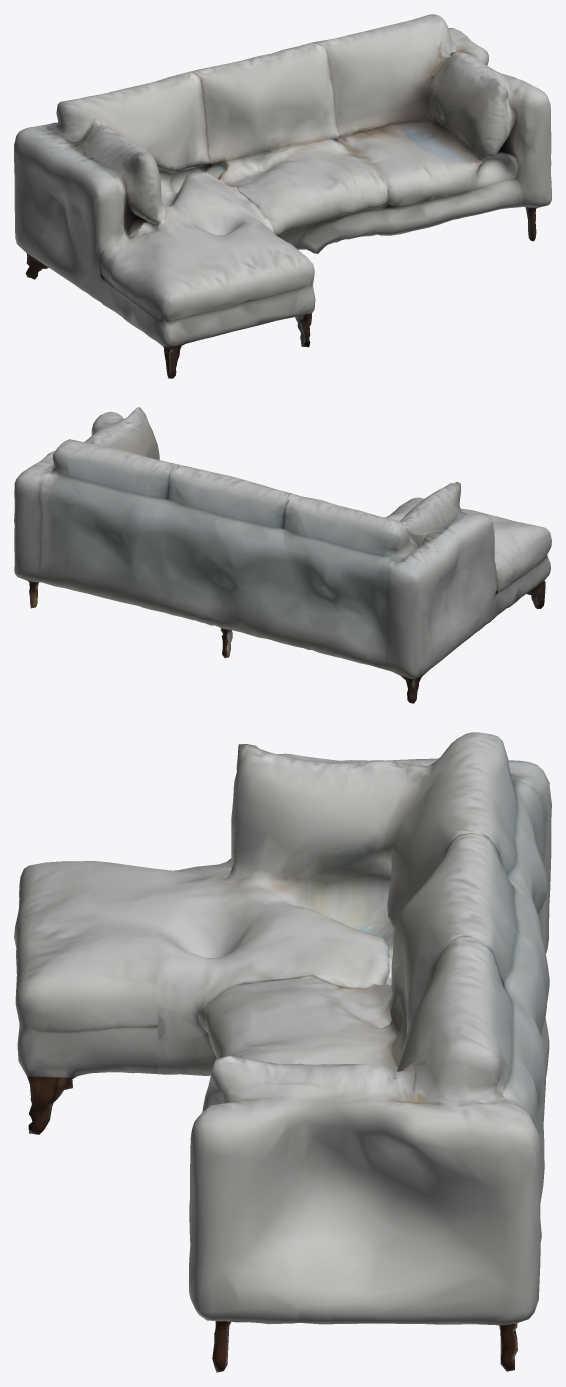
The model's file is Aaron_2_Piece_Uphol_0722183740.obj.
3 renders of one model, top to bottom at view 1: azimuth 30°, elevation 25°; view 2: azimuth 150°, elevation 25°; view 3: azimuth 270°, elevation 25°, orthographic. The views are drawn at different scales.
Visible parts, largest first — view 1: Mesh_0; view 2: Mesh_0; view 3: Mesh_0.
Boxes of the visible parts, <box> form: Mesh_0: <box>14,14,551,378</box>; Mesh_0: <box>14,407,551,703</box>; Mesh_0: <box>14,732,551,1372</box>.
Bounding box in the file's own units: 1.2 × 0.4701 × 0.7221.
